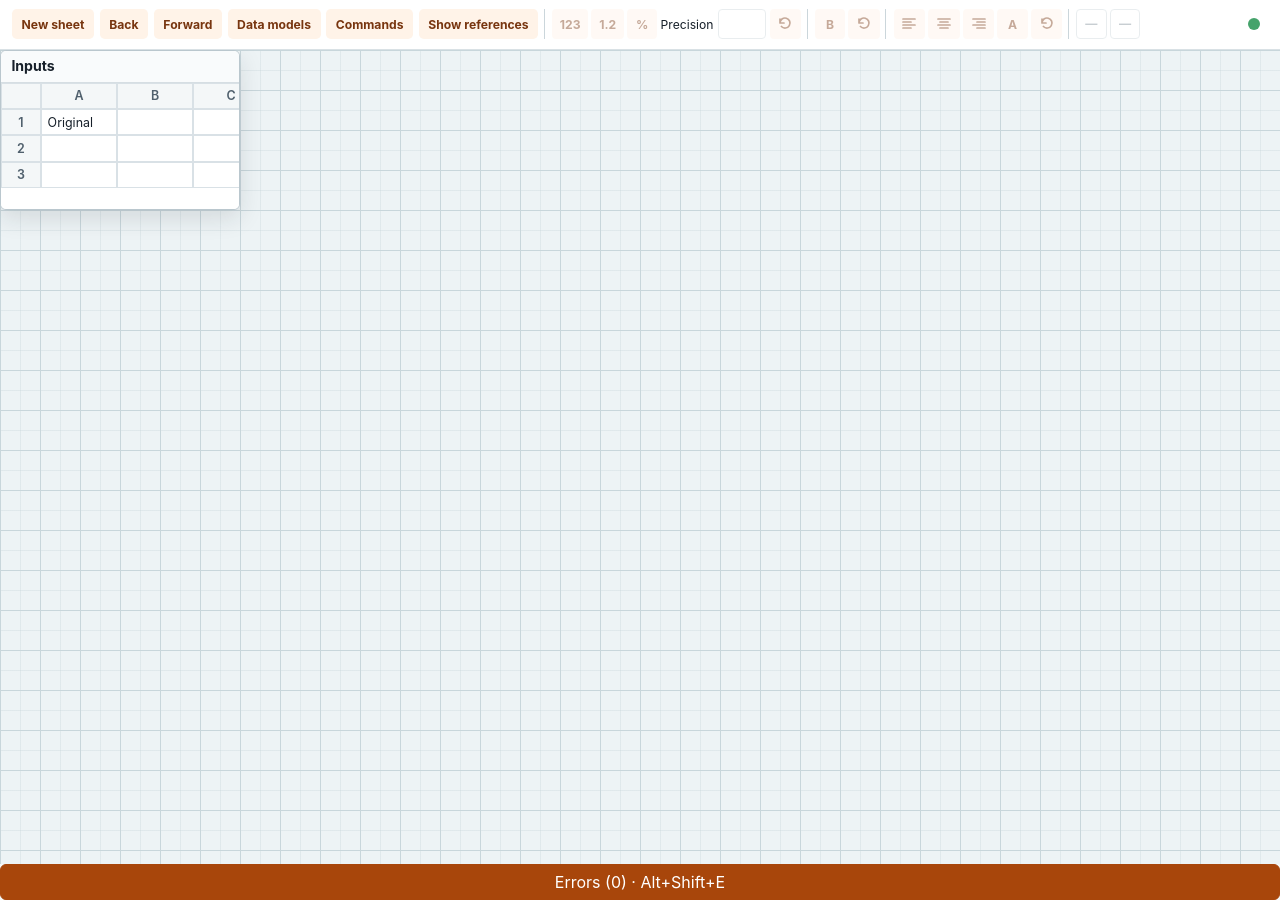
Test case: sheet dialog takeover of armed background owners › retires simultaneous held Space and menu drafts without background focus restoration
Click the cell named "Inputs A1 cell" at (79, 122), box [41,109,117,135]
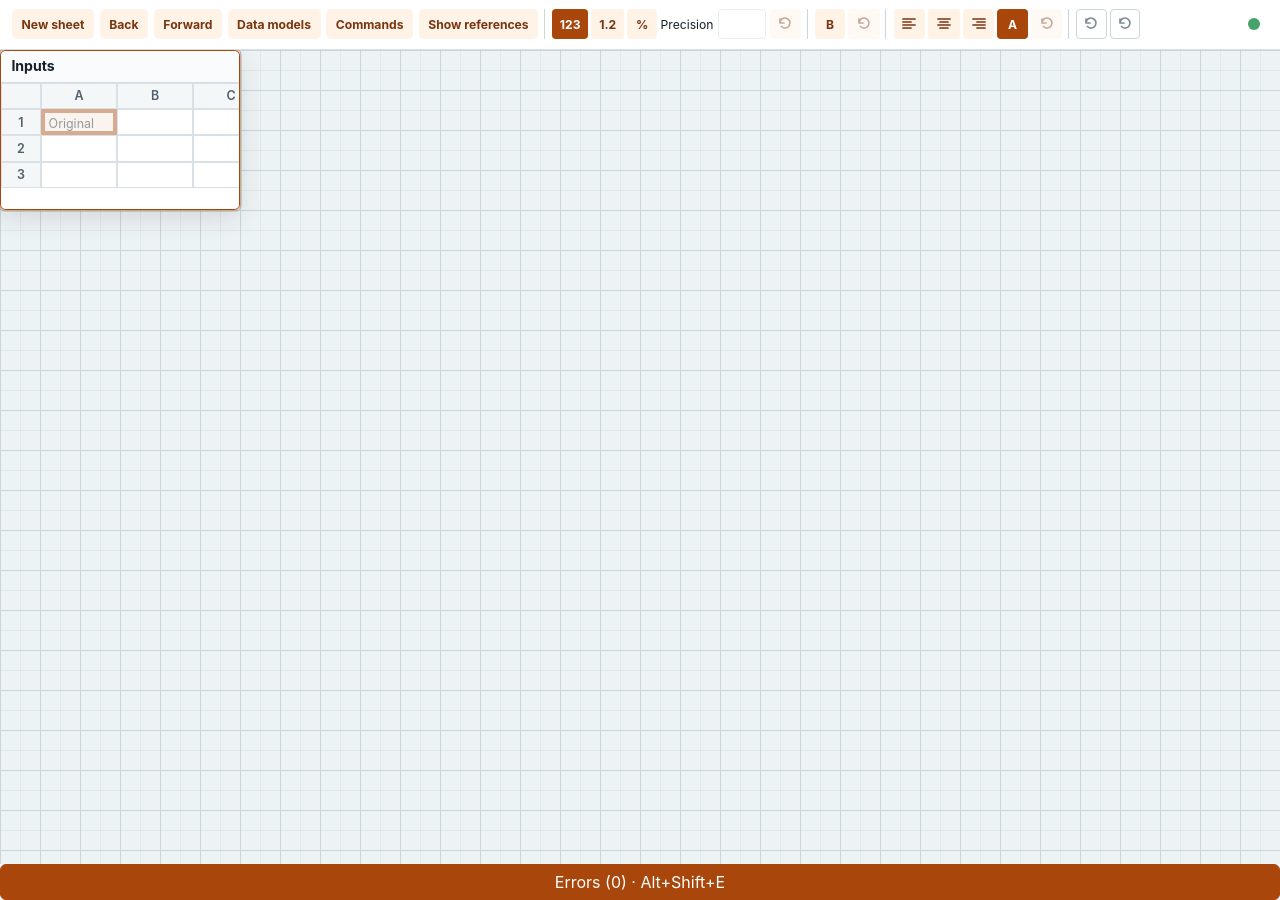
Press Space
Right-click the element named "Sheet Inputs" at (120, 130), box [0,50,240,210]
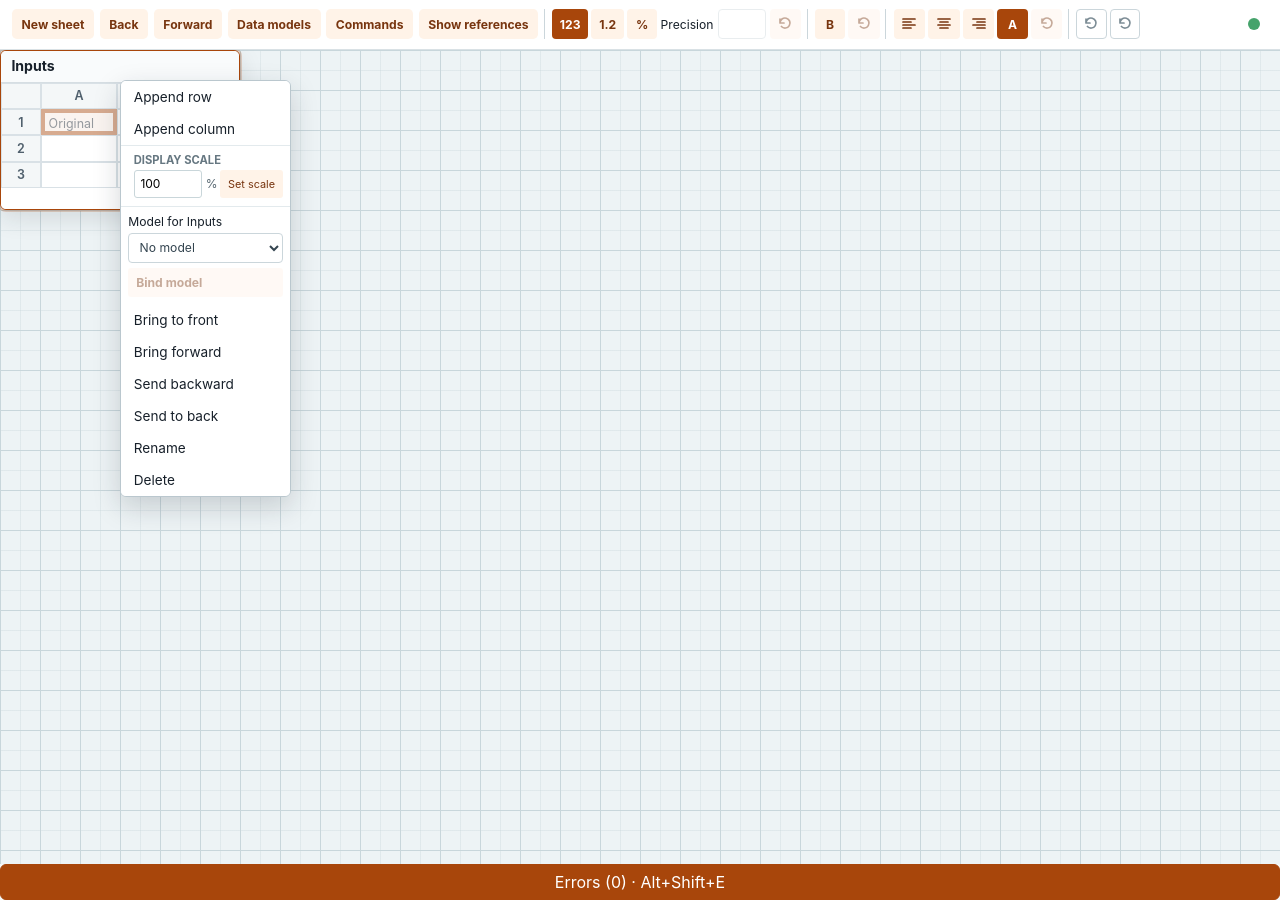
Replace the text in the number field named "Display scale percentage" with "50" at (168, 184), box [134,170,202,198]
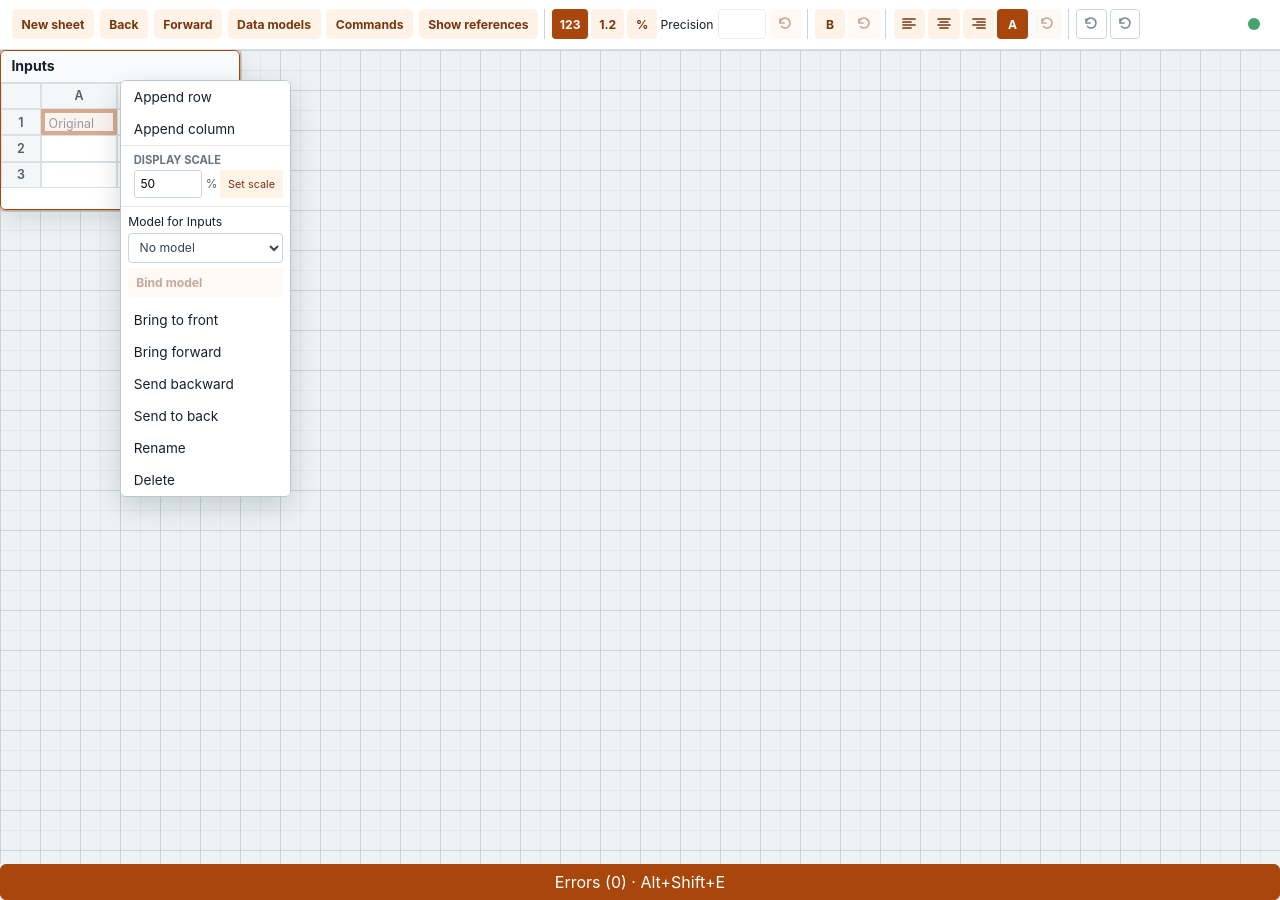
Press N
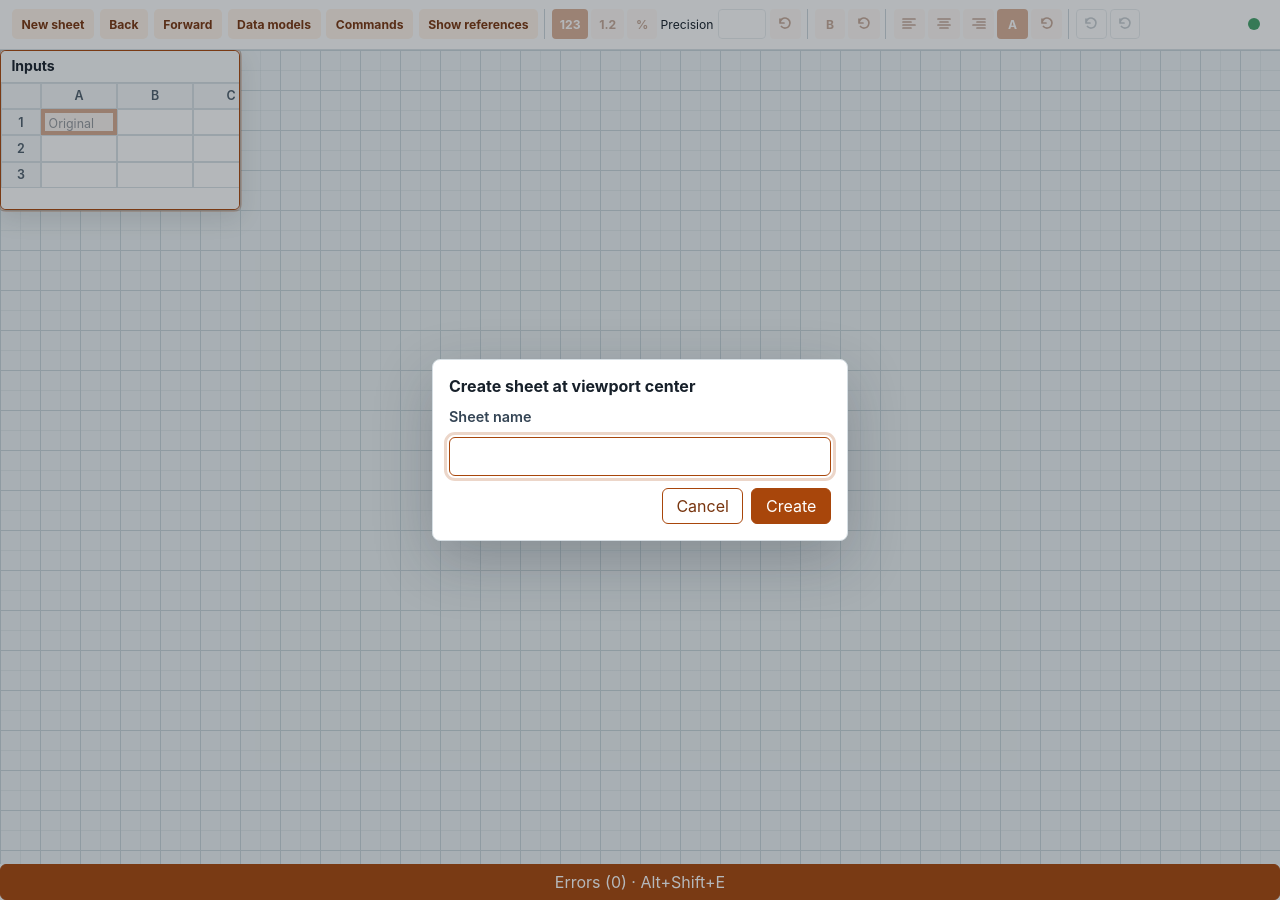
expect the menu is gone: met
Press Escape in the field, box [449,437,831,476]
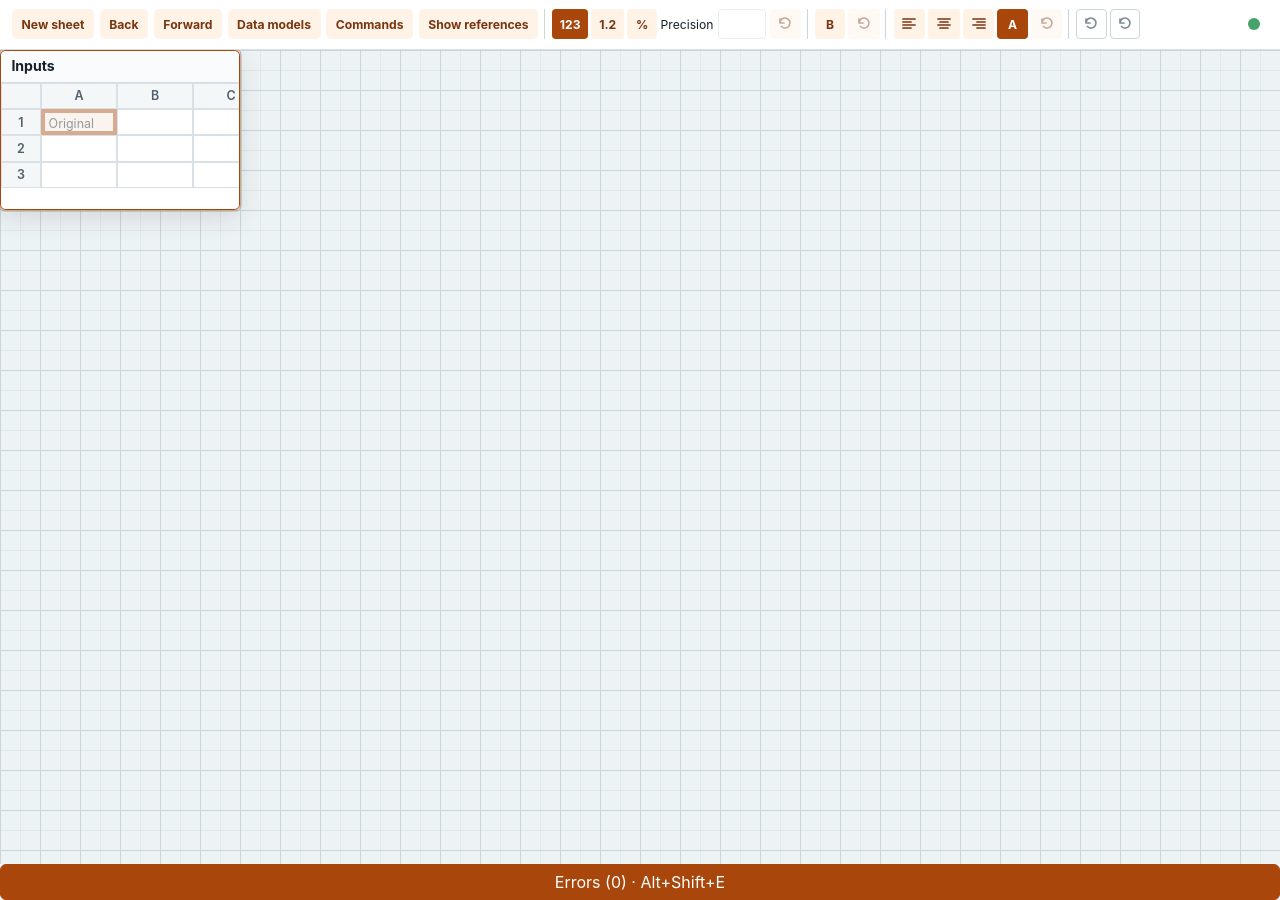
expect the form is gone: met
Right-click the element named "Sheet Inputs" at (120, 130), box [0,50,240,210]
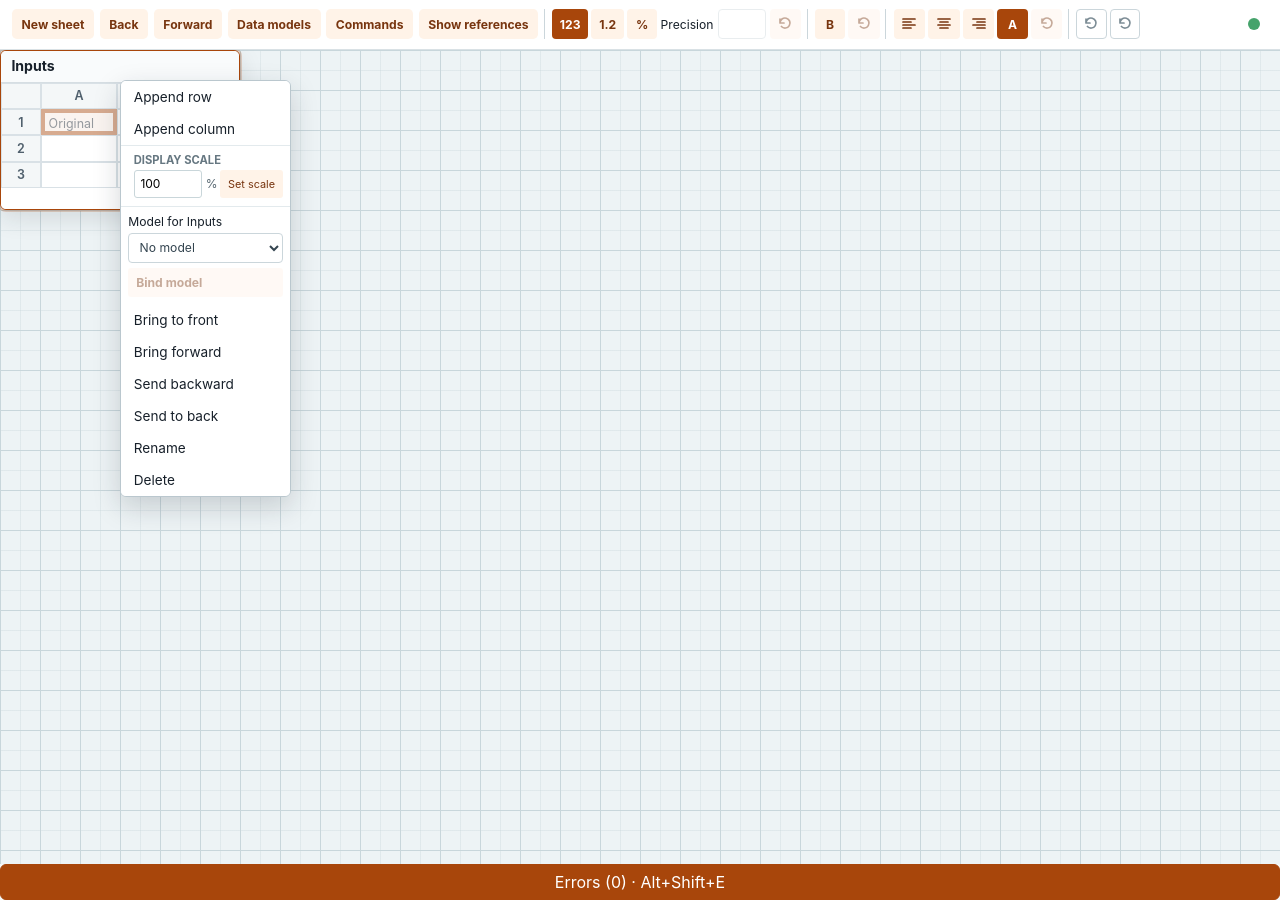
expect the number field named "Display scale percentage" holds "100": met, box [134,170,202,198]
